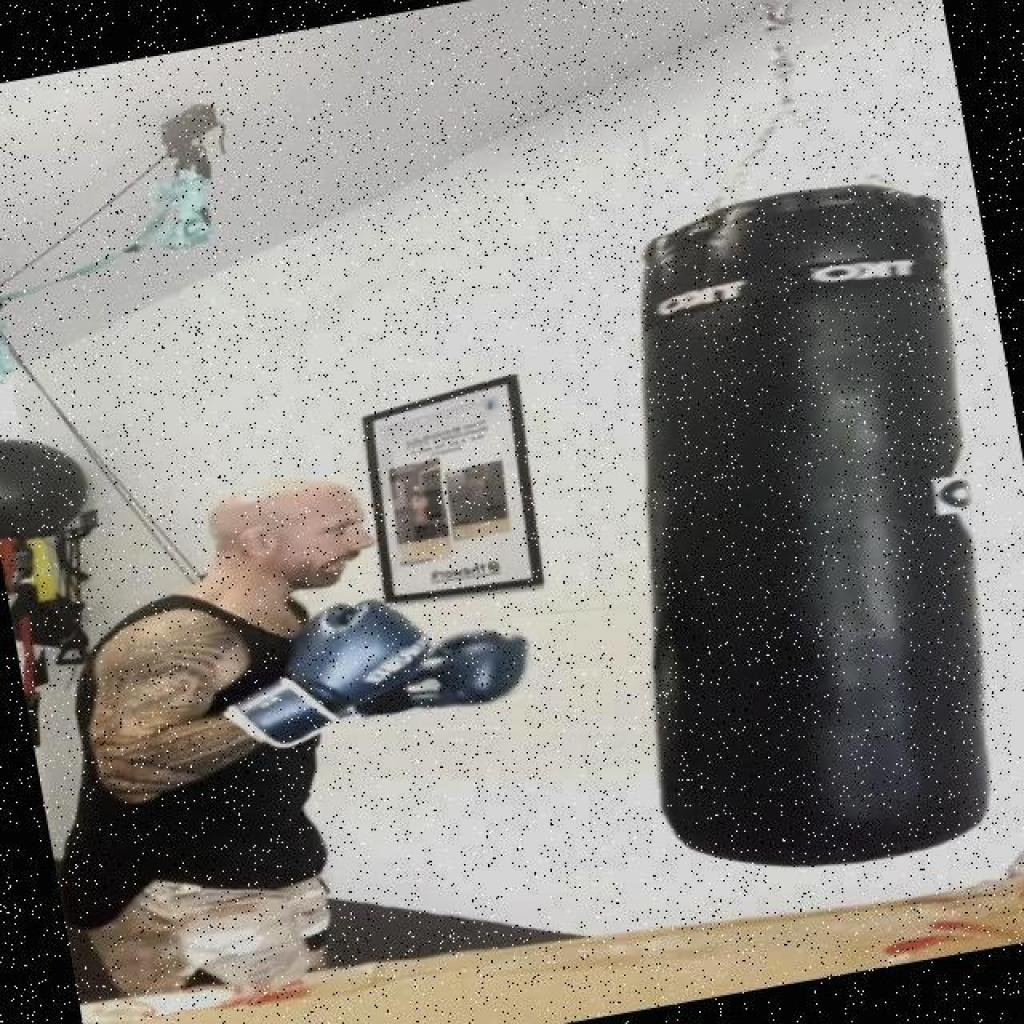bag: (534, 152, 1024, 894)
